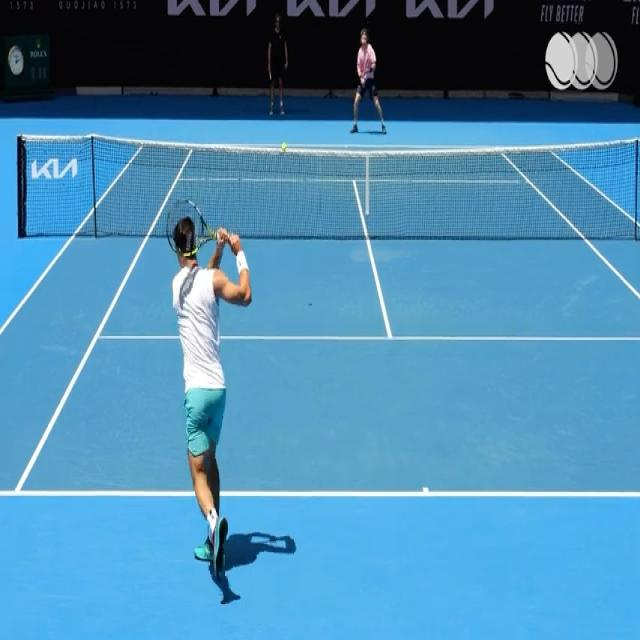backhand-finish: (163, 198, 257, 582)
